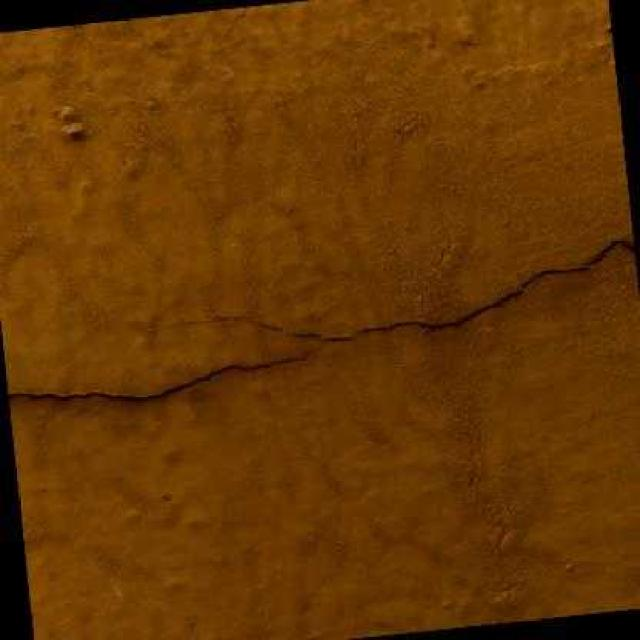D00: (165, 238, 635, 340), (6, 356, 309, 399)
